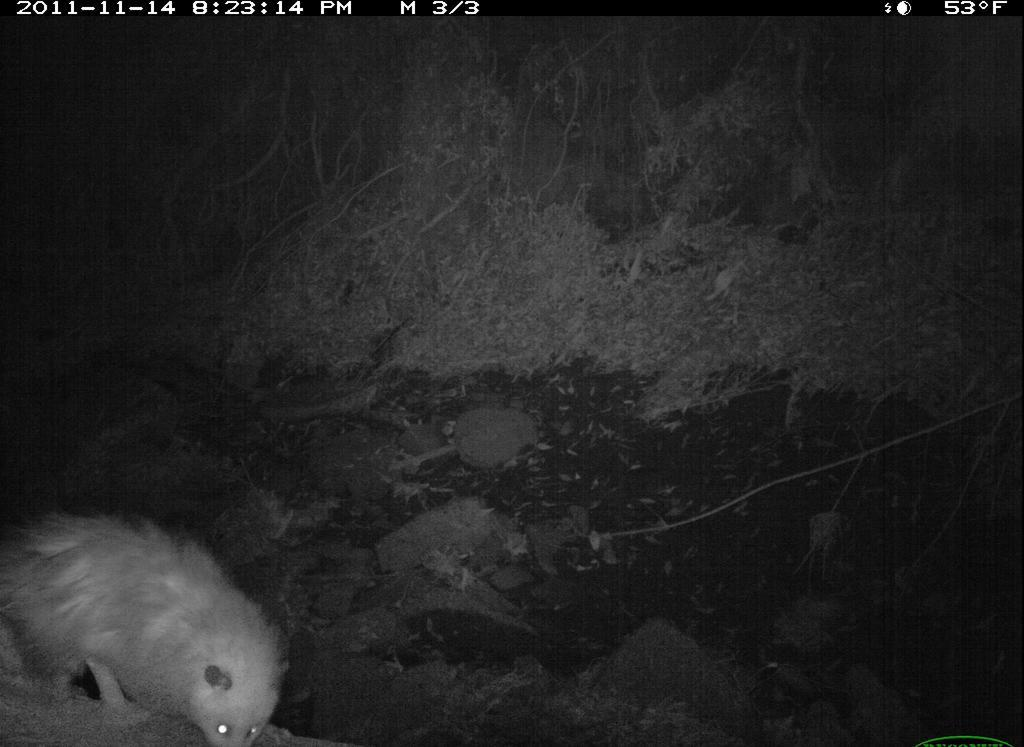opossum: (1, 497, 299, 747)
